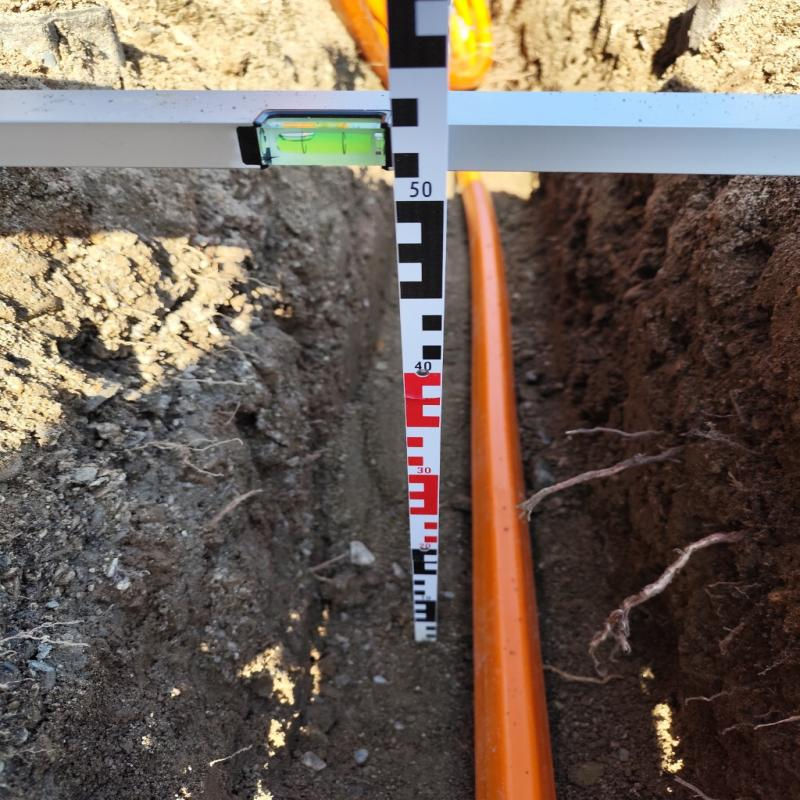Orang-Speednetrohrchen: (461, 181, 551, 796)
